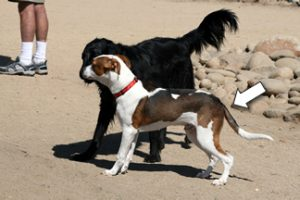tail: (223, 101, 277, 145)
